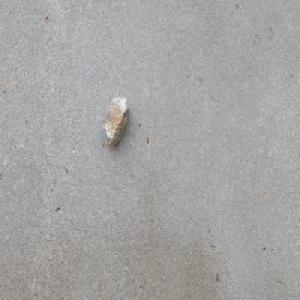Rock: (103, 96, 129, 147)
